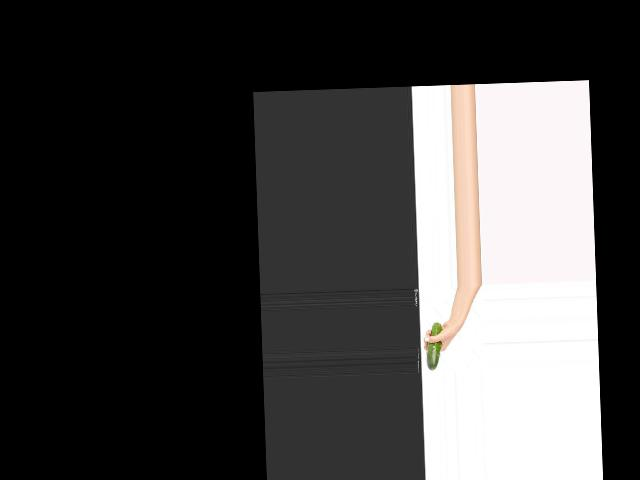cucumber: (424, 322, 443, 371)
